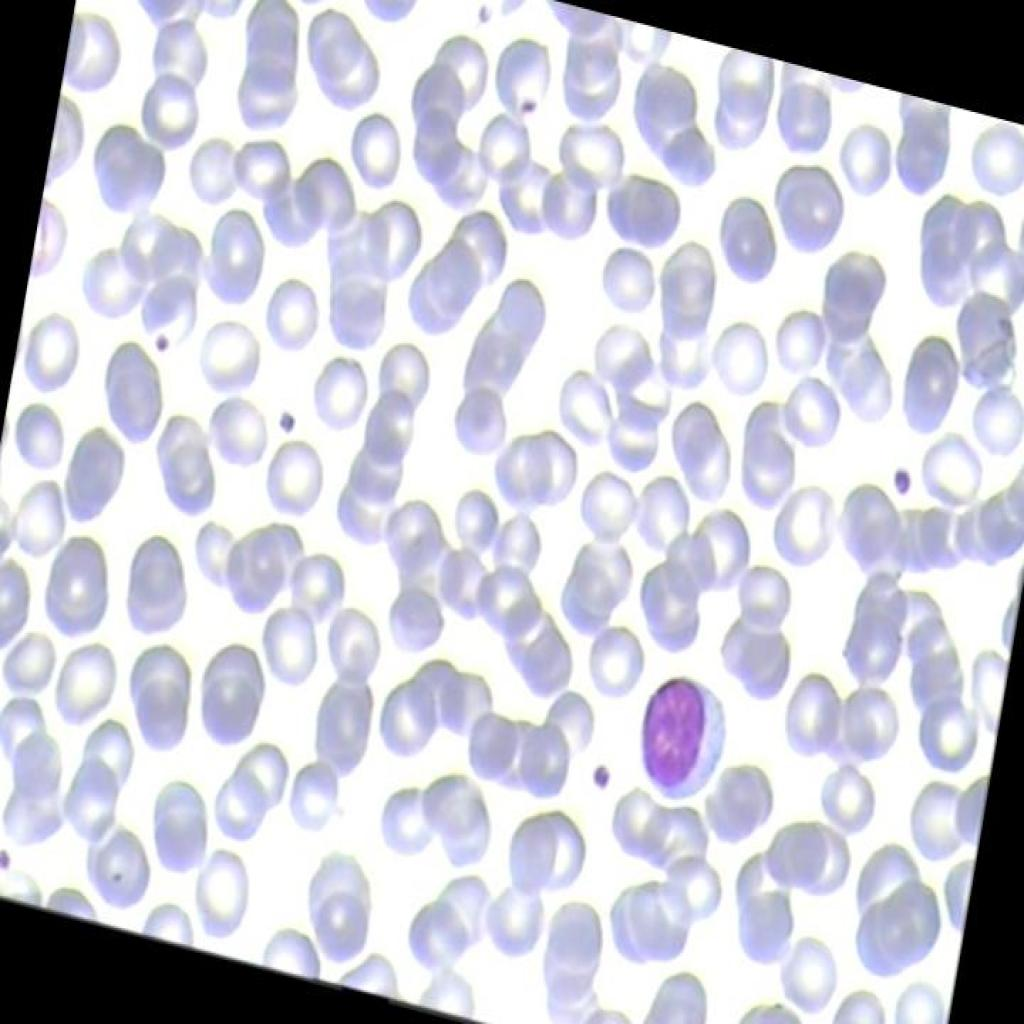Limfosit: (623, 658, 741, 818)
Platelet: (583, 739, 620, 809), (884, 457, 928, 507), (138, 315, 179, 366), (272, 394, 310, 444), (465, 0, 505, 34), (0, 827, 17, 880)
